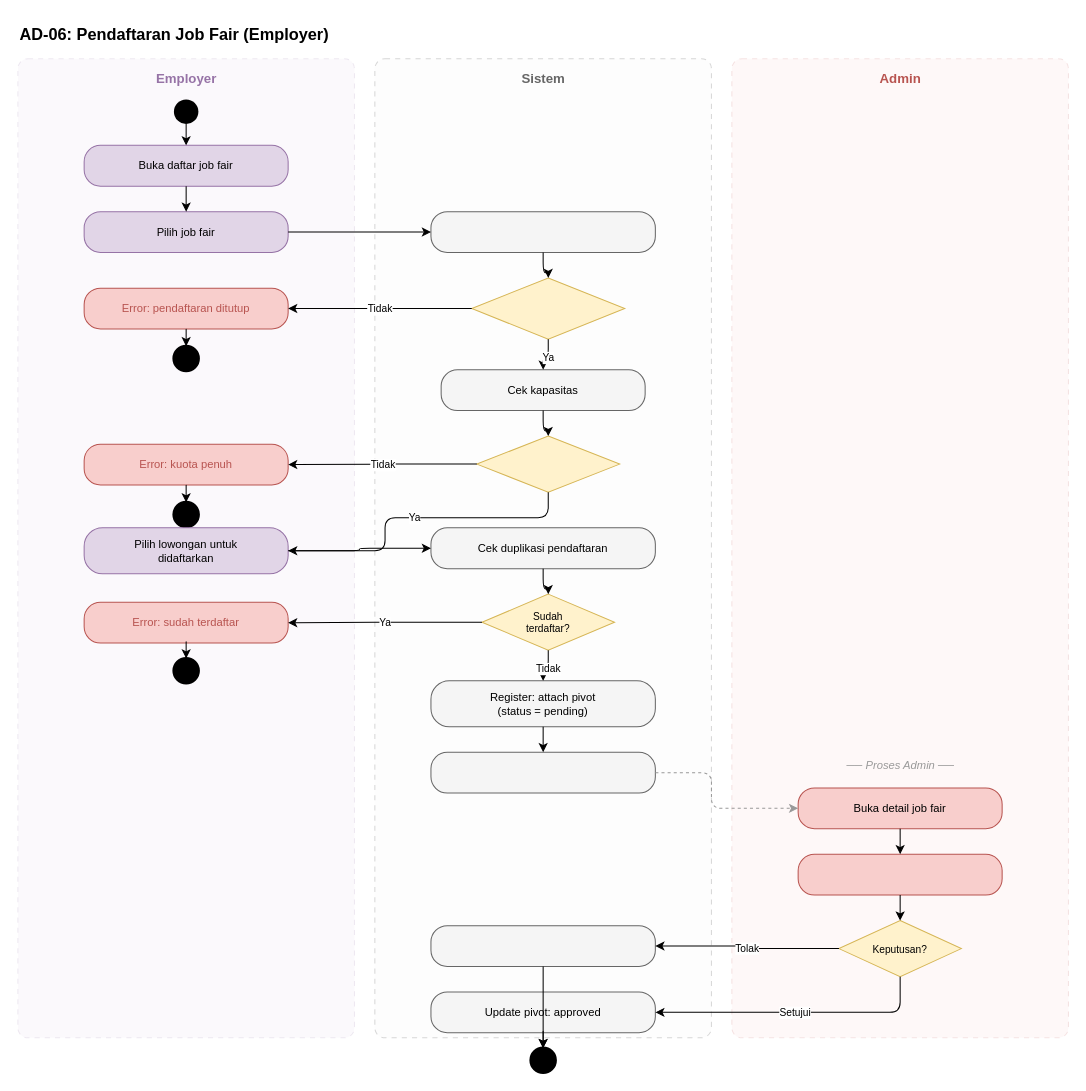
Some shapes in this 1086 by 1091 pixel diagram are drawn without their labels. The centre of each missing label's shape, as x and y in pixels:
"Cek status & tanggal mulai" goes at (542,231).
"hasCapacity()?" goes at (548,463).
"isActive() & belum mulai?" goes at (548,308).
"Kirim notifikasi ke Admin" goes at (542,772).
"Review pendaftaran" goes at (899,874).
"Update pivot: rejected" goes at (542,945).
